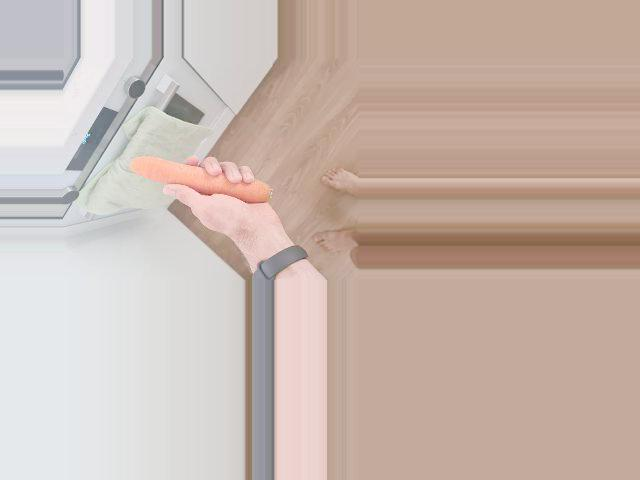carrot: (130, 154, 274, 204)
